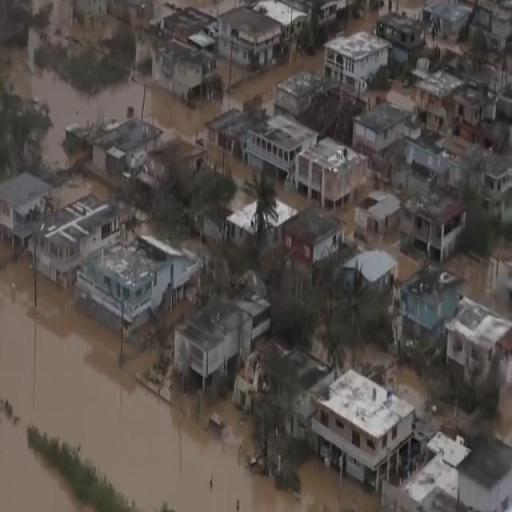flood: (0, 240, 380, 512), (10, 52, 326, 166), (0, 421, 86, 512), (447, 254, 512, 321), (202, 133, 256, 185), (369, 233, 420, 284), (56, 10, 117, 45), (392, 370, 431, 419), (53, 179, 108, 207), (277, 190, 321, 209), (500, 393, 512, 450)
house: (72, 229, 210, 355), (310, 362, 421, 500), (175, 293, 259, 396), (444, 287, 512, 404), (398, 268, 458, 361), (296, 135, 370, 207), (420, 65, 498, 133), (34, 212, 100, 287), (224, 9, 292, 76), (411, 196, 470, 268), (95, 114, 163, 176), (332, 30, 393, 98), (282, 209, 344, 275), (248, 119, 307, 187), (2, 175, 48, 257), (162, 34, 207, 100), (224, 192, 263, 255), (354, 193, 404, 242), (428, 0, 472, 46), (480, 154, 512, 192)
